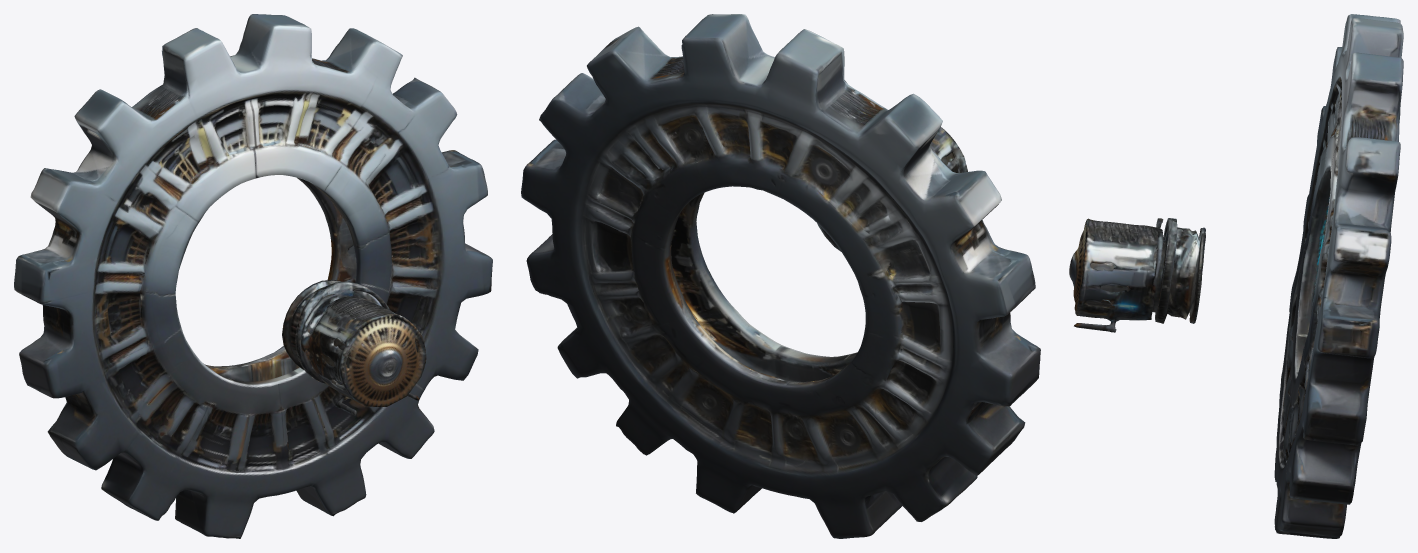
The model's file is Futuristic_Techy_COG__1017024135_refine.glb.
3 renders of one model, left to right at view 1: azimuth 30°, elevation 25°; view 2: azimuth 150°, elevation 25°; view 3: azimuth 270°, elevation 25°, orthographic. The views are drawn at different scales.
Bounding box in the file's own units: 1.95 × 1.96 × 1.26.
1 material, 1 textured.
